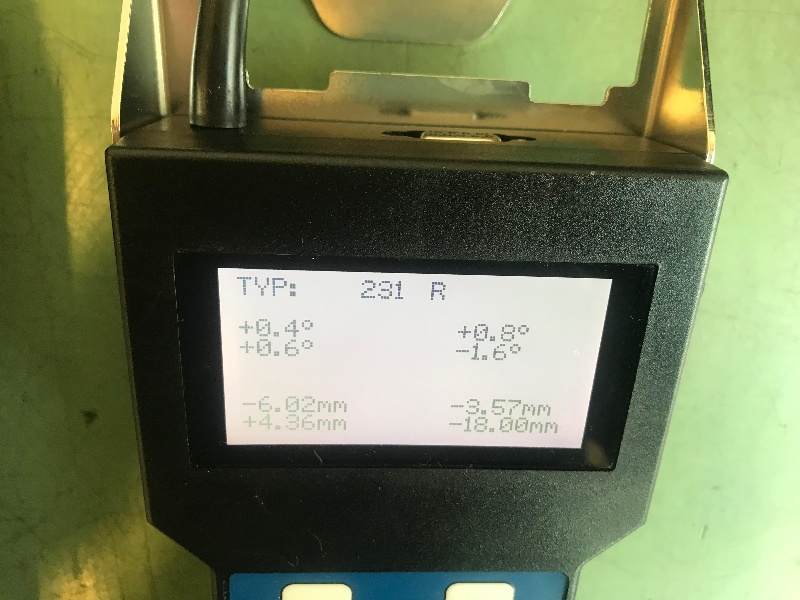ins_one: (215, 268, 613, 462)
